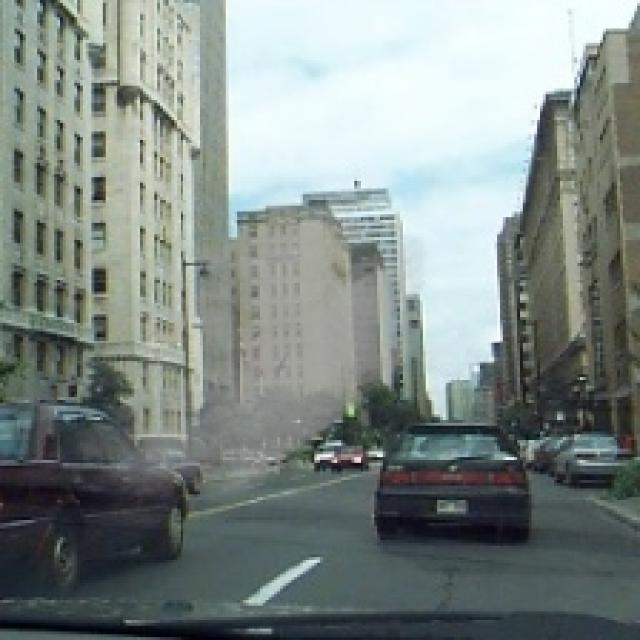smoke: (17, 180, 443, 534)
